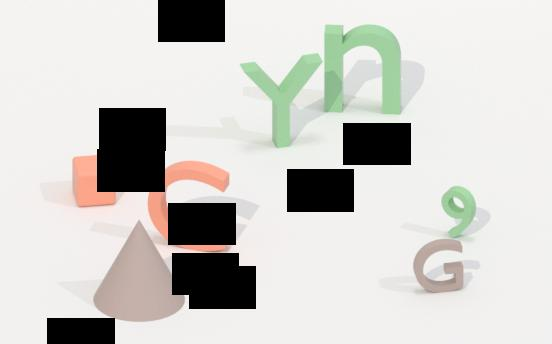9: (439, 185, 482, 240)
G-hoa: (142, 159, 237, 253), (409, 237, 468, 293)
Y-hoa: (231, 54, 333, 153)
hop: (69, 151, 123, 210)
n: (319, 21, 412, 115)
non: (86, 224, 193, 326)
